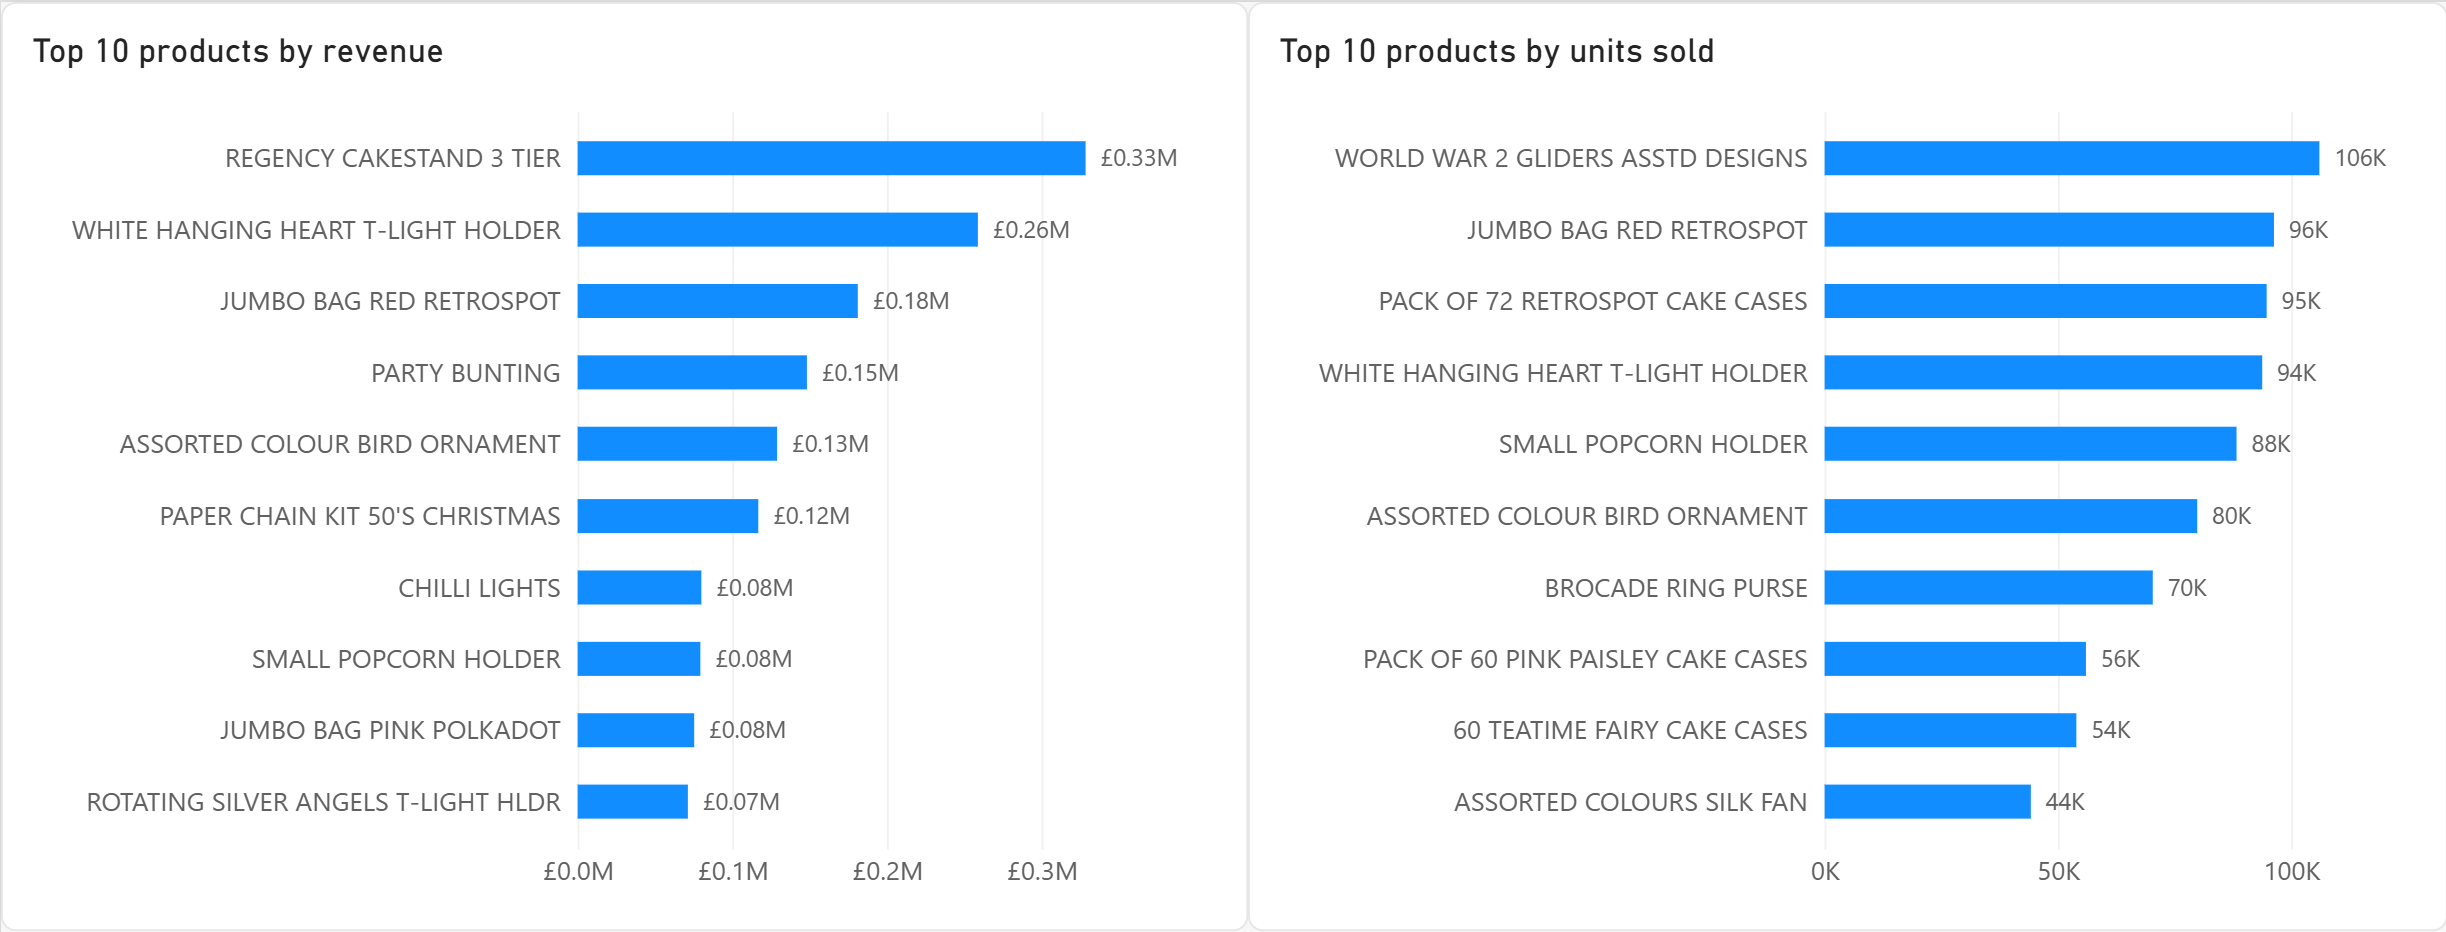

What the dashboard file says about the page in this screenshot:
{"tool":"powerbi","page":{"name":"Products","canvas":[1920,1080],"ordinal":2},"visuals":[{"type":"clusteredBarChart","title":"Top 10 products by revenue","fields":{"Category":["products.description"],"Y":["invoice_lines.Total Revenue"]},"box":[0,0,670,498.8],"z":0},{"type":"clusteredBarChart","title":"Top 10 products by units sold","fields":{"Category":["products.description"],"Y":["invoice_lines.Units Sold"]},"box":[670,0,645,498.8],"z":1}]}

Visuals, with their boxes on the page's 1920x1080 design canvas (x1, y1, x2, y2). These are canvas units, not pixel positions in the 2446x932 screenshot, which may show the page scaled, cropped or inside an application window:
"Top 10 products by revenue" clusteredBarChart: detection(0, 0, 670, 499)
"Top 10 products by units sold" clusteredBarChart: detection(670, 0, 1315, 499)
